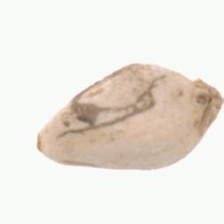L1: (191, 76, 222, 132), (36, 124, 65, 166)
L2: (37, 63, 222, 170)
